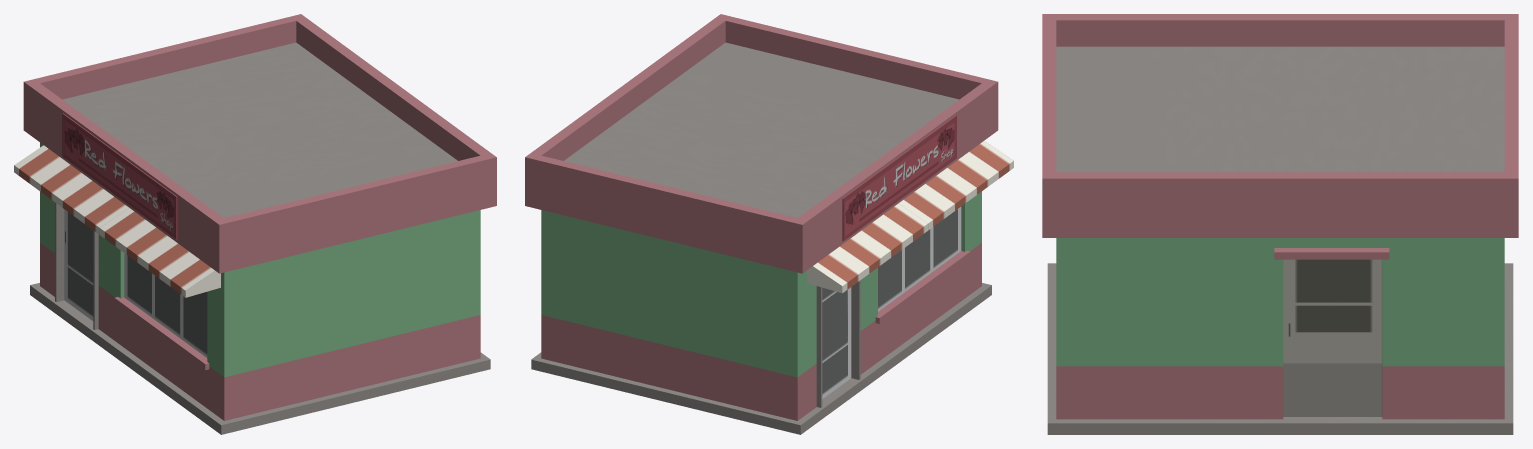
File: shop1.fbx
3 renders of one model, left to right at view 1: azimuth 30°, elevation 25°; view 2: azimuth 150°, elevation 25°; view 3: azimuth 270°, elevation 25°, orthographic. The views are drawn at different scales.
Visible parts, largest first — view 1: sptp_building_24; view 2: sptp_building_24; view 3: sptp_building_24.
Part boxes in pixels (x1,y1,x2,y2): sptp_building_24: (14,14,496,434); sptp_building_24: (525,14,1013,434); sptp_building_24: (1042,14,1518,434).
Size of the model in its own units: 492 by 331 by 552.
Materials: 1 (1 with a texture image).
